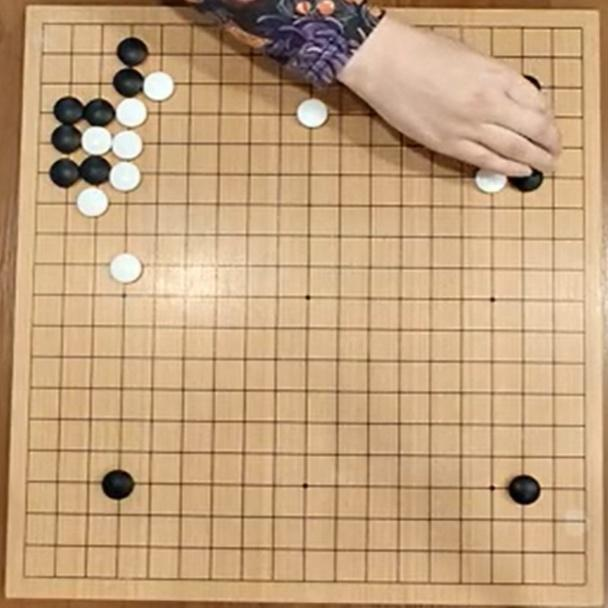corners: (10, 544, 58, 599), (555, 554, 603, 602), (553, 7, 597, 58), (26, 6, 71, 50)
